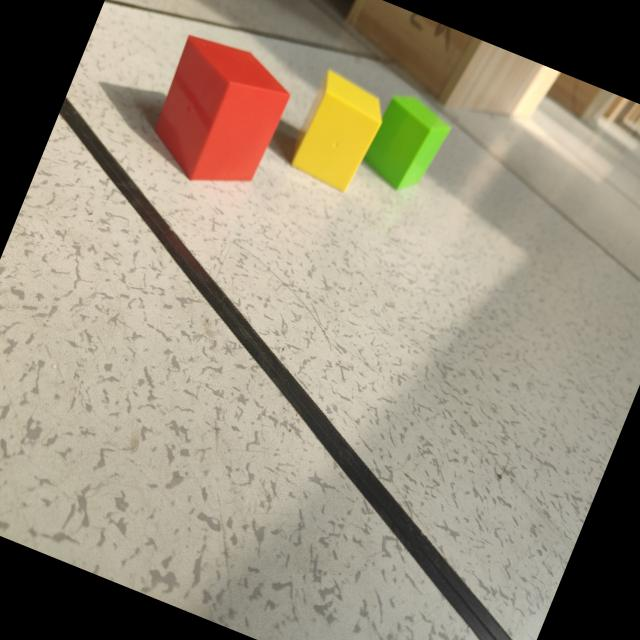green: (362, 95, 450, 191)
red: (154, 36, 289, 184)
yellow: (288, 71, 381, 194)
